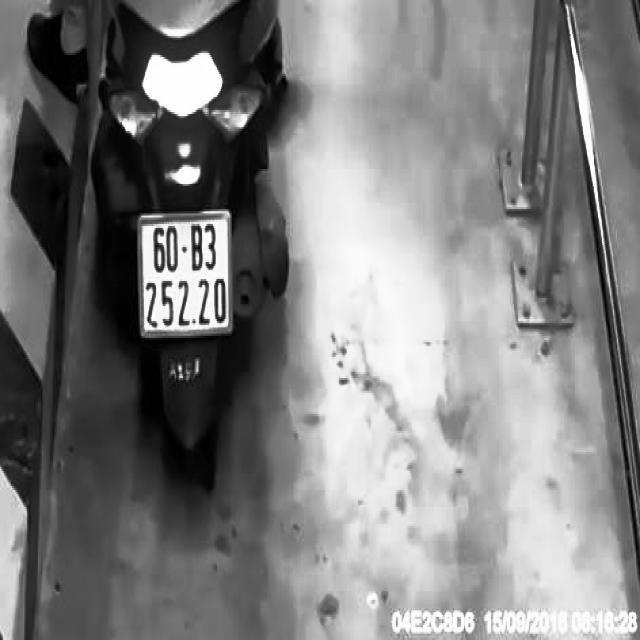license_plate: (136, 212, 237, 342)
